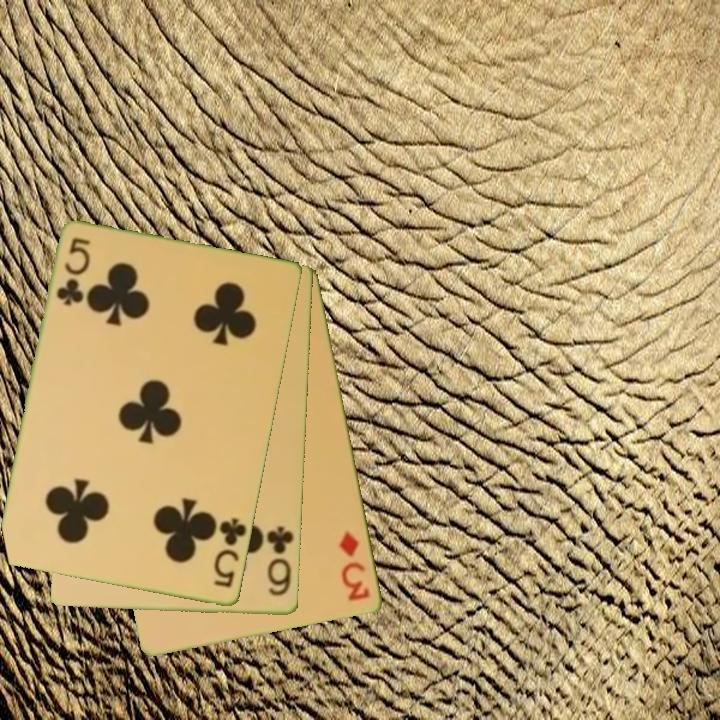3d: (336, 528, 373, 604)
5c: (53, 234, 94, 310), (211, 515, 250, 591)
6c: (263, 523, 297, 599)
